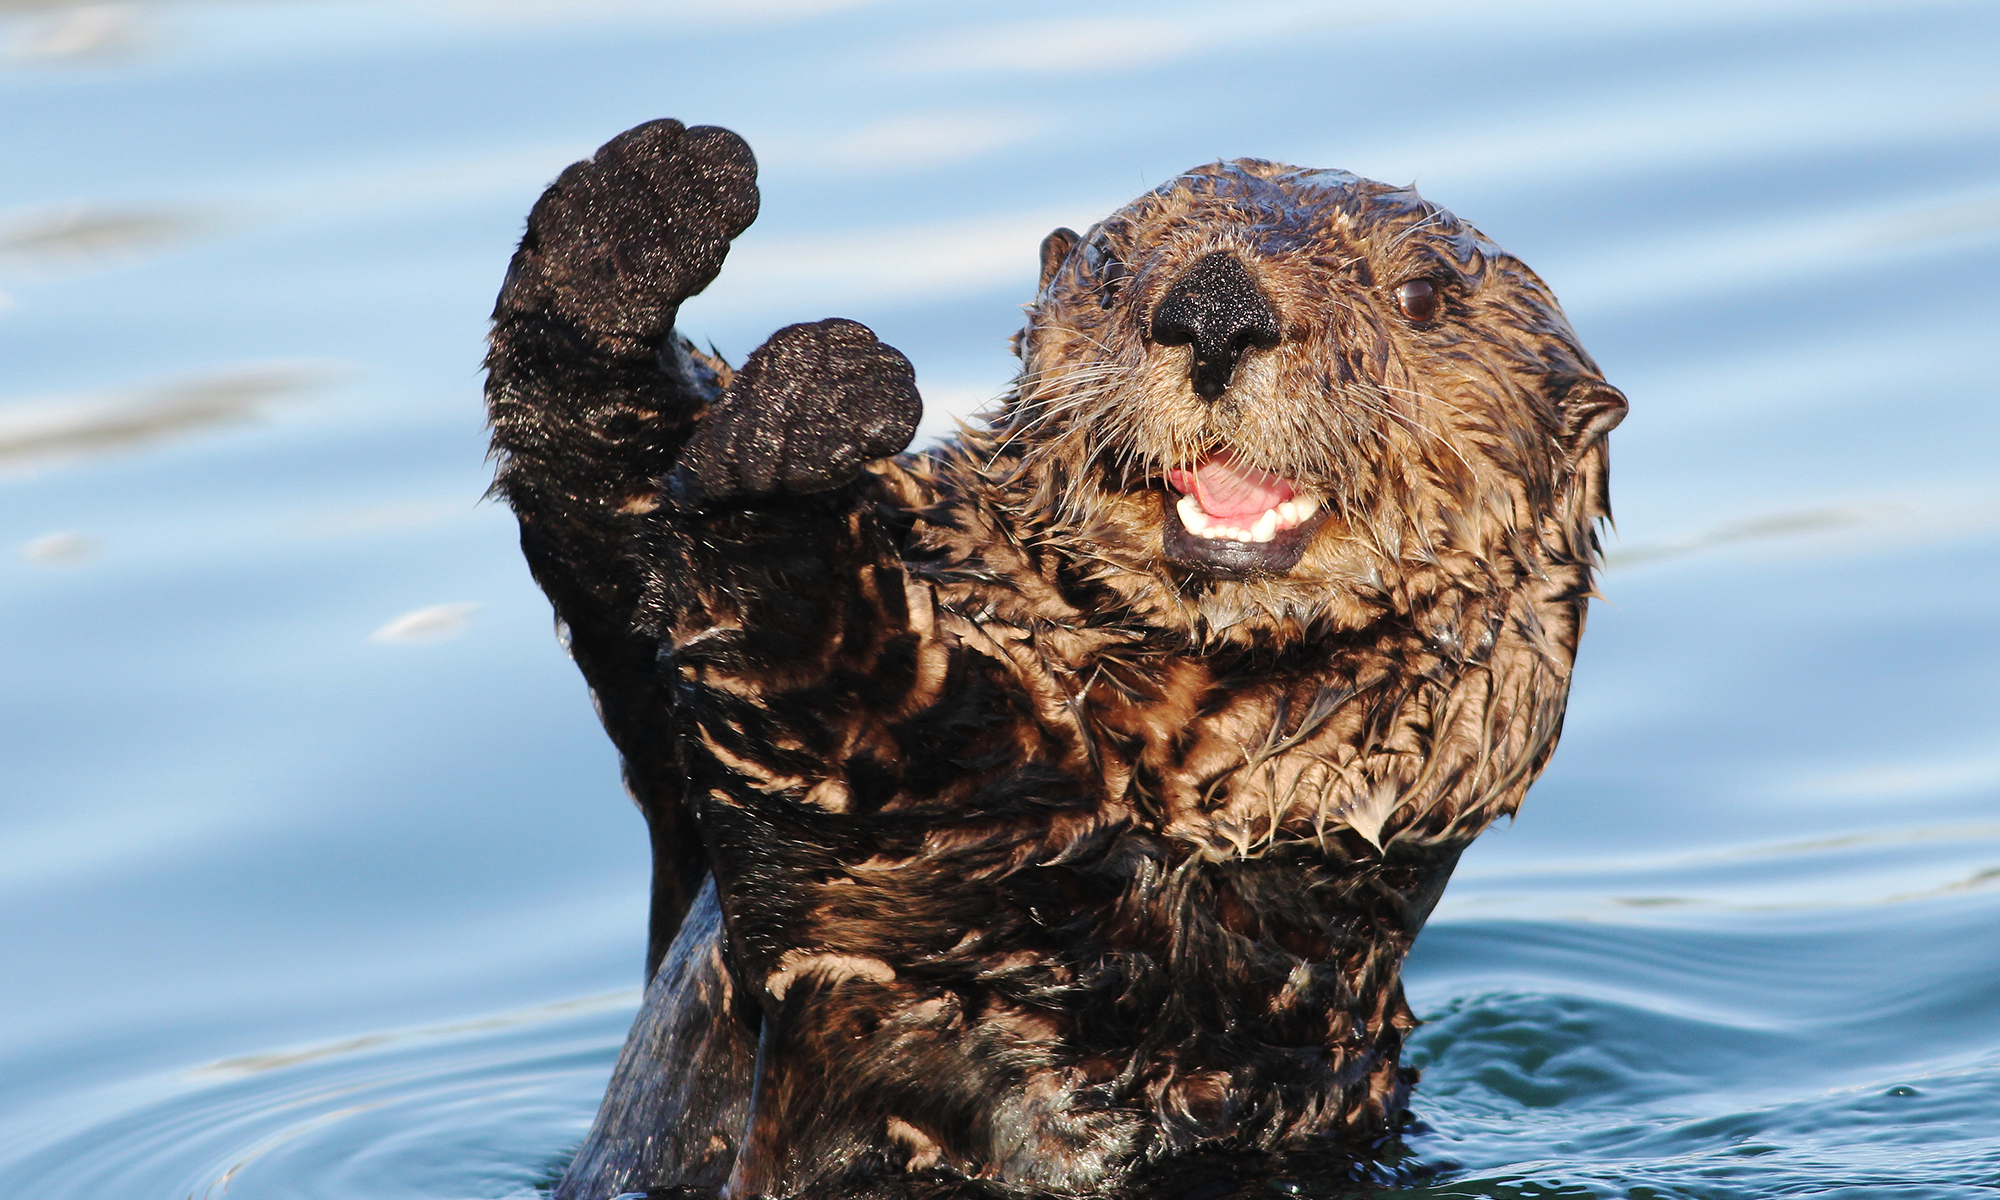otter: (417, 70, 1694, 1193)
